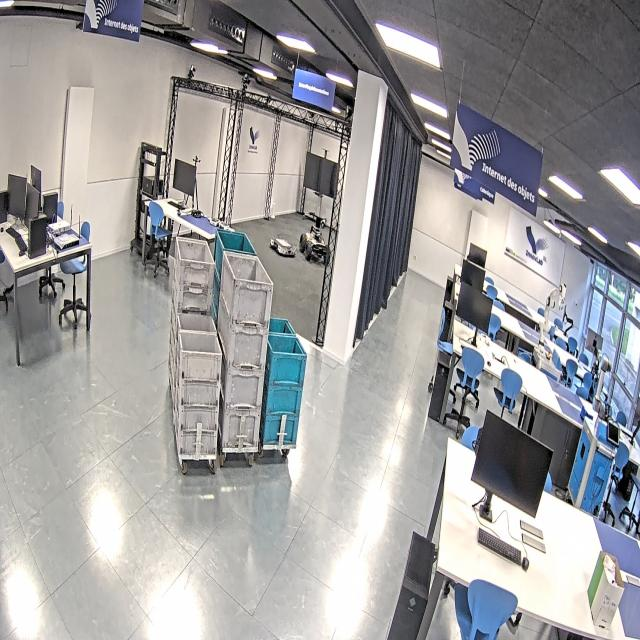Box3G: (174, 236, 216, 289), (172, 265, 213, 315)
Box4G: (216, 291, 268, 372), (220, 250, 274, 326), (220, 358, 264, 411), (217, 398, 259, 450)
BoxB4: (216, 228, 259, 283)
BoxB8: (265, 335, 307, 388), (179, 332, 221, 382), (174, 422, 218, 457), (176, 397, 218, 433), (177, 372, 220, 407), (263, 384, 306, 416), (262, 410, 299, 444)
